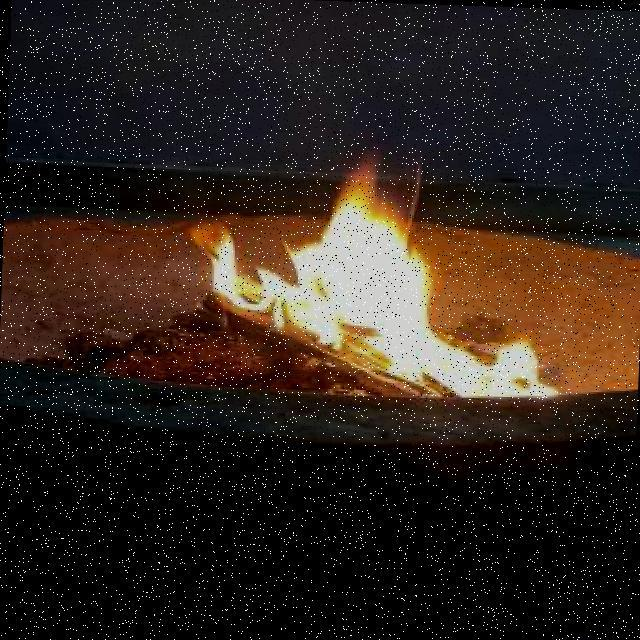Fire: (187, 134, 568, 411)
